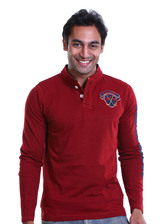clothoes: (15, 62, 148, 220)
